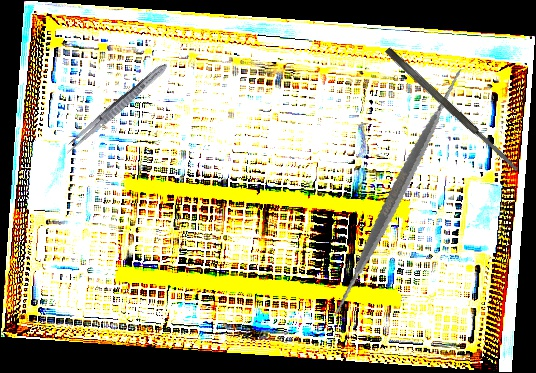Dressing Forceps: (61, 59, 172, 157)
Spatula Surgical: (272, 65, 524, 320), (383, 45, 521, 175)
